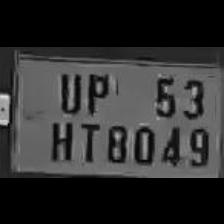0: (129, 120, 155, 166)
3: (178, 72, 205, 118)
4: (158, 120, 182, 166)
5: (150, 72, 177, 118)
8: (103, 120, 129, 164)
9: (184, 121, 210, 167)
H: (46, 117, 76, 161)
P: (82, 67, 112, 113)
T: (75, 120, 101, 162)
U: (54, 66, 82, 114)
